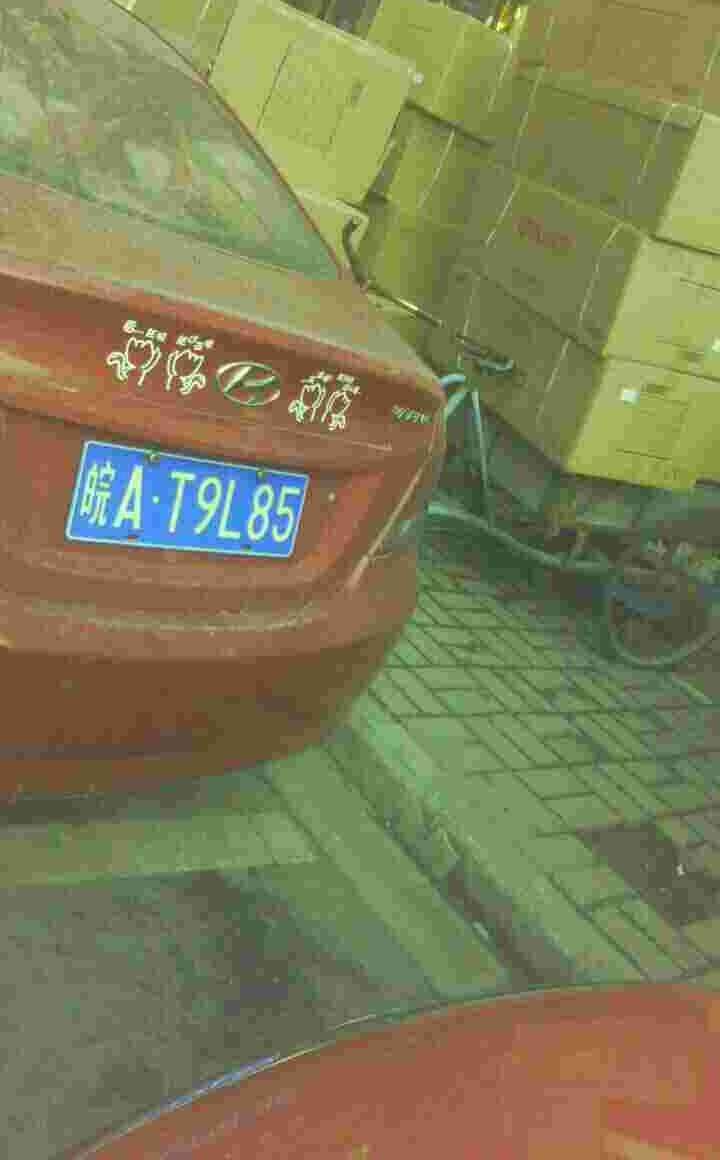license_plate: (79, 446, 322, 547)
